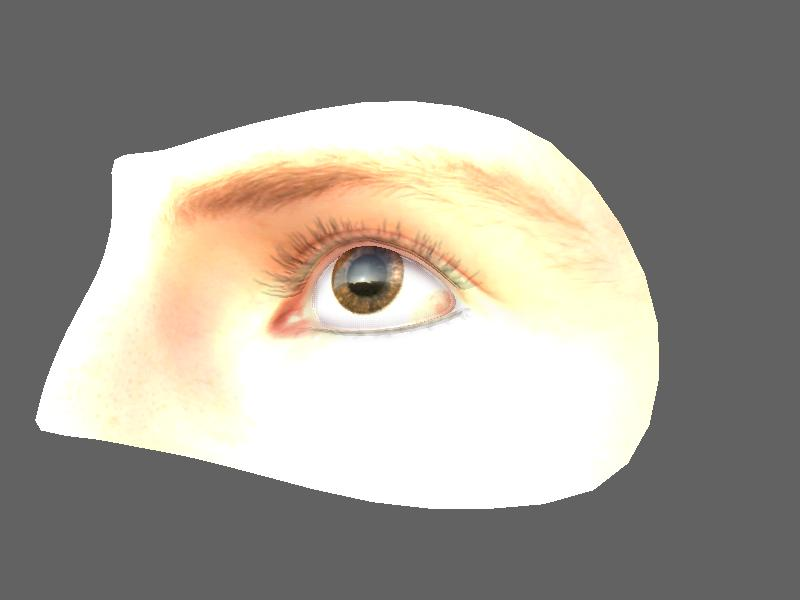iris: (332, 247, 411, 310)
